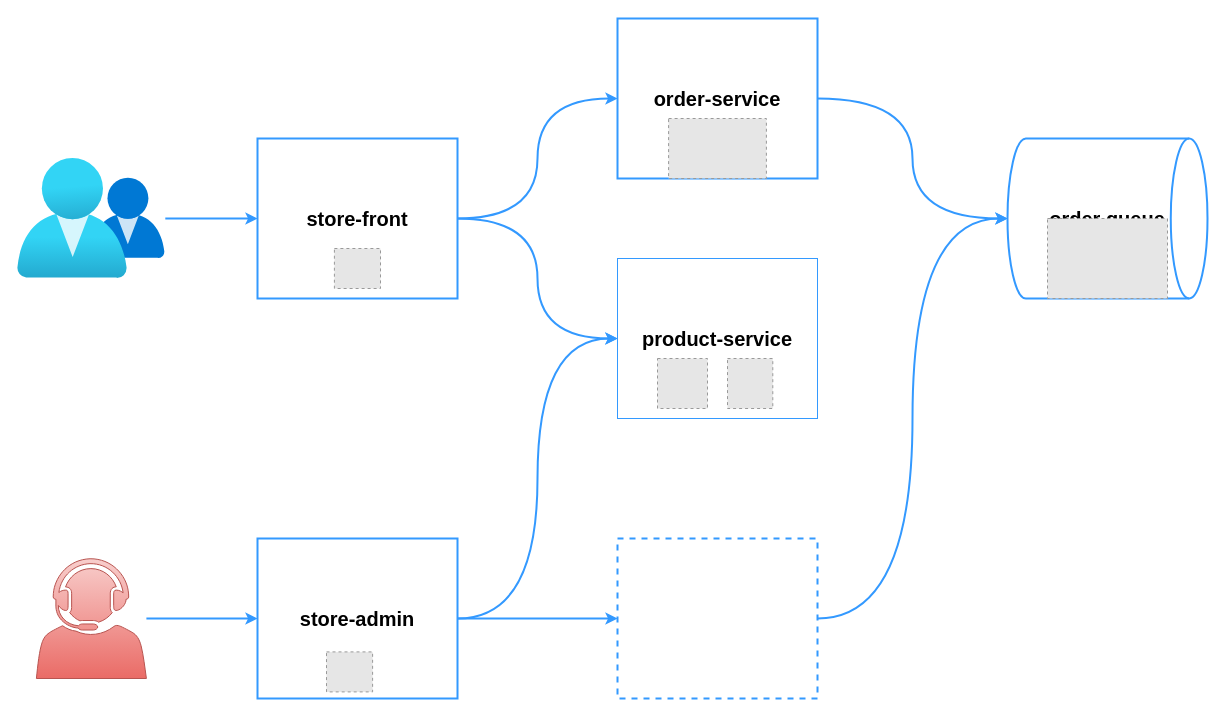
Image size: 1225x726. Some labels were removed from this diagram. Grey dashed boxes stand in for pictures. The centre of each missing label's shape, as x and y in pixels:
"Customers" belongs at point 91,218.
"Employees" belongs at point 90,618.
"managment-service" belongs at point 717,618.
